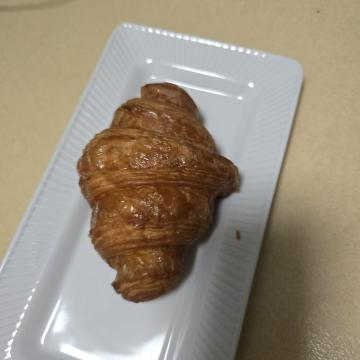croissant: (66, 112, 318, 291)
